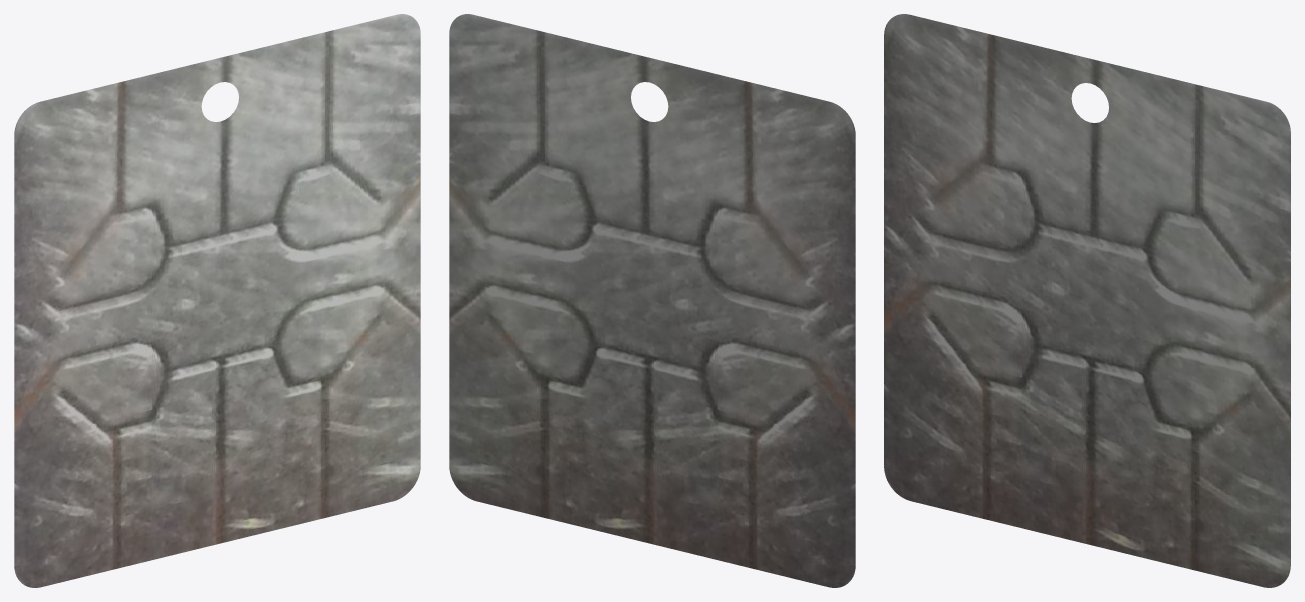
The model's file is puce_classic_argent_texture.dae.
The picture shows the model from 3 angles, left to right: view 1: azimuth 30°, elevation 25°; view 2: azimuth 150°, elevation 25°; view 3: azimuth 330°, elevation 25°; orthographic projection.
Parts seen in each view (by area): view 1: SketchUp; view 2: SketchUp; view 3: SketchUp.
Part boxes in pixels (box(x1,y1,x2,y2)): SketchUp: box(14, 14, 420, 587); SketchUp: box(449, 14, 855, 587); SketchUp: box(884, 14, 1290, 587).
Size of the model in its own units: 41.39 by 0 by 47.27.
1 material, 1 textured.
